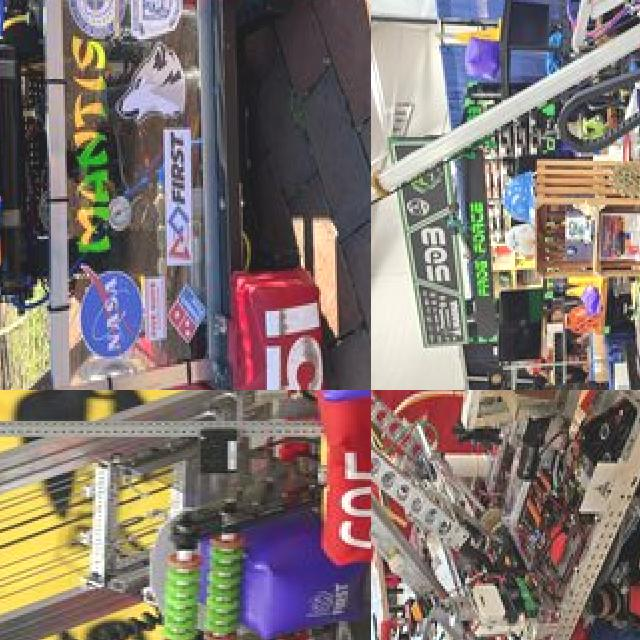FRC-Robots: (0, 0, 359, 390), (0, 390, 371, 640), (375, 0, 640, 348), (371, 390, 640, 640)
